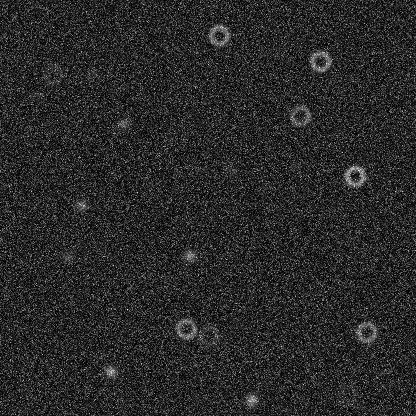Ring: (335, 382, 359, 406), (342, 163, 366, 187), (174, 316, 198, 340), (196, 323, 220, 347), (206, 23, 230, 47), (354, 320, 378, 344), (40, 62, 64, 86), (308, 49, 332, 73), (288, 104, 312, 128)
Spot: (83, 65, 99, 81), (243, 391, 259, 407), (181, 247, 197, 263), (115, 115, 131, 131), (29, 87, 45, 103), (73, 197, 89, 213), (223, 163, 239, 179), (59, 248, 75, 264), (102, 363, 118, 379)
